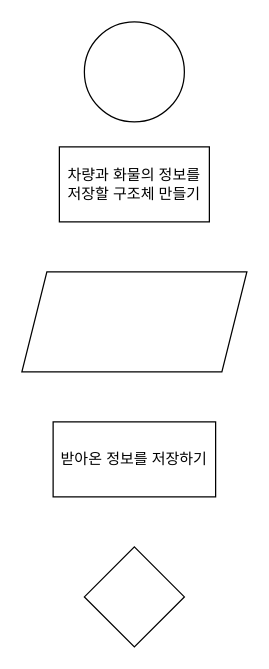
This 269x669 diagram has some shape labels left out. The centre of each missing label's shape, as x and y in pixels:
"START" goes at point (133, 71).
"사용자에게 1. 현재 기름값 2. 차량의 최대적재무게 3. 화물의 정보 받아오기" goes at point (134, 321).
